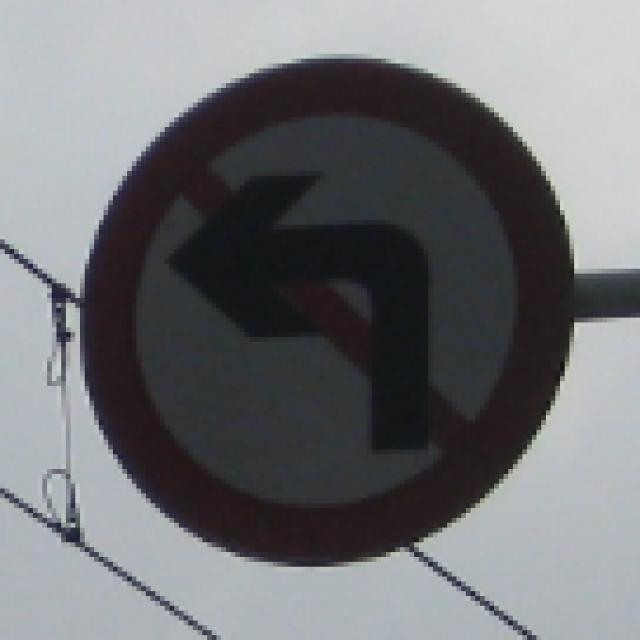Not that Direction: (69, 53, 581, 557)
